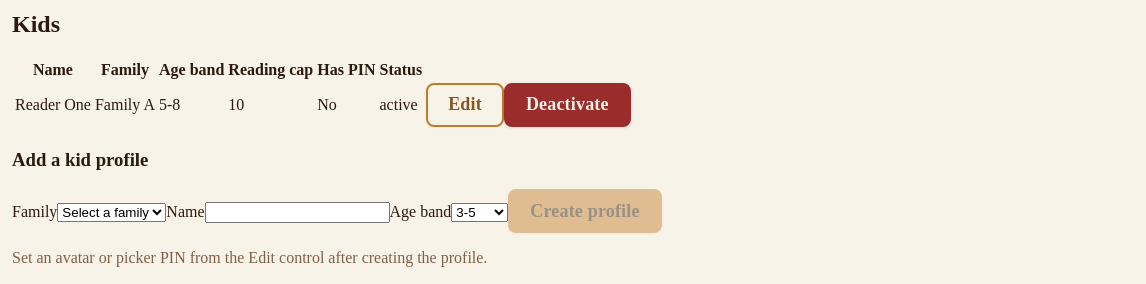
it: KidsTab › disables Save when the typed PIN does not match the 4-8 digit shape
Click the button "Edit" at (465, 105), box left=426, top=83, right=504, bottom=127
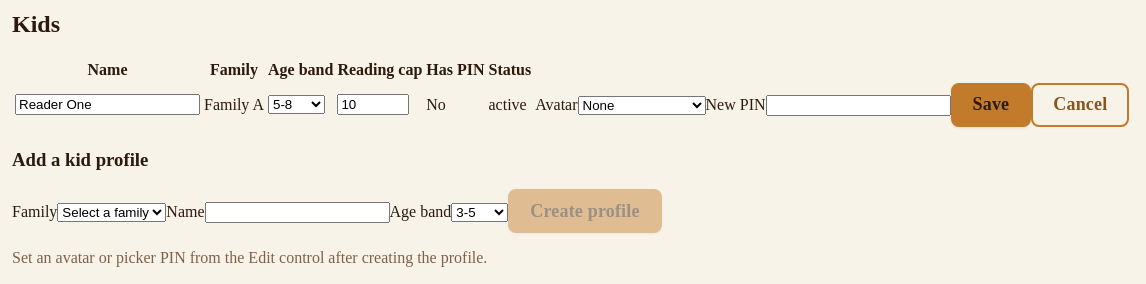
Type "12" into the password field named "New PIN for Reader One" at (858, 106), box left=766, top=95, right=950, bottom=116
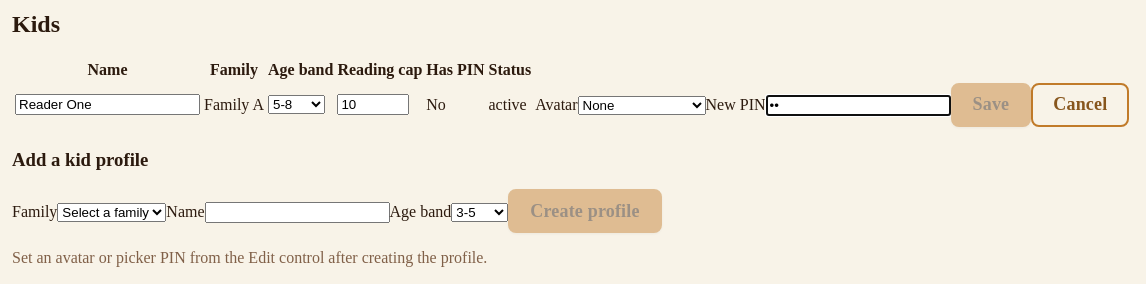
Now the button "Save" is disabled, box left=950, top=83, right=1031, bottom=127
